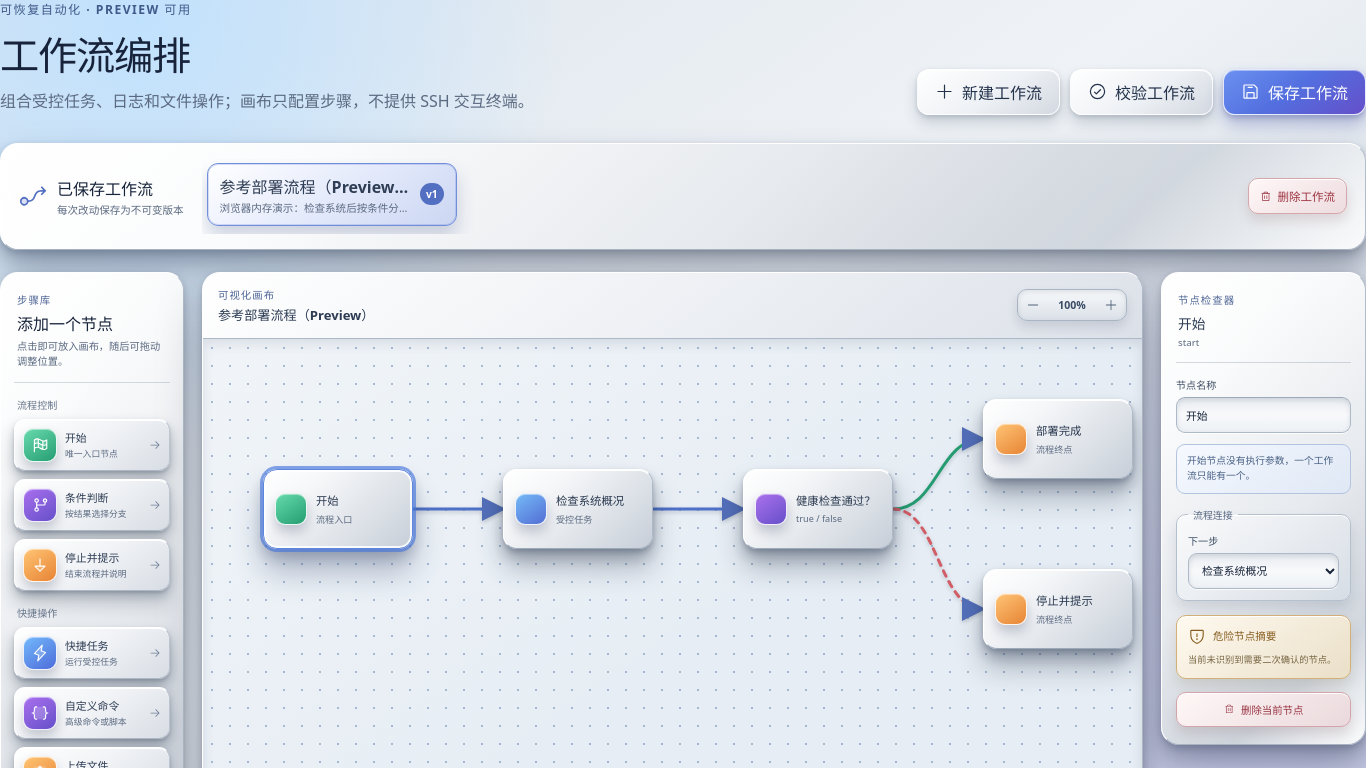
WorkflowInspector › edits task parameters and explicit next/true/false connections, then deletes a node
This screenshot has width=1366, height=768.
Expected: the button "参考部署流程（Preview） 浏览器内存演示：检查系统后按条件分支，不连接真实服务器。 v1" is shown, [207,163,457,226]
Click the button "检查系统概况 受控任务".
click(578, 509)  # box [503,469,653,549]
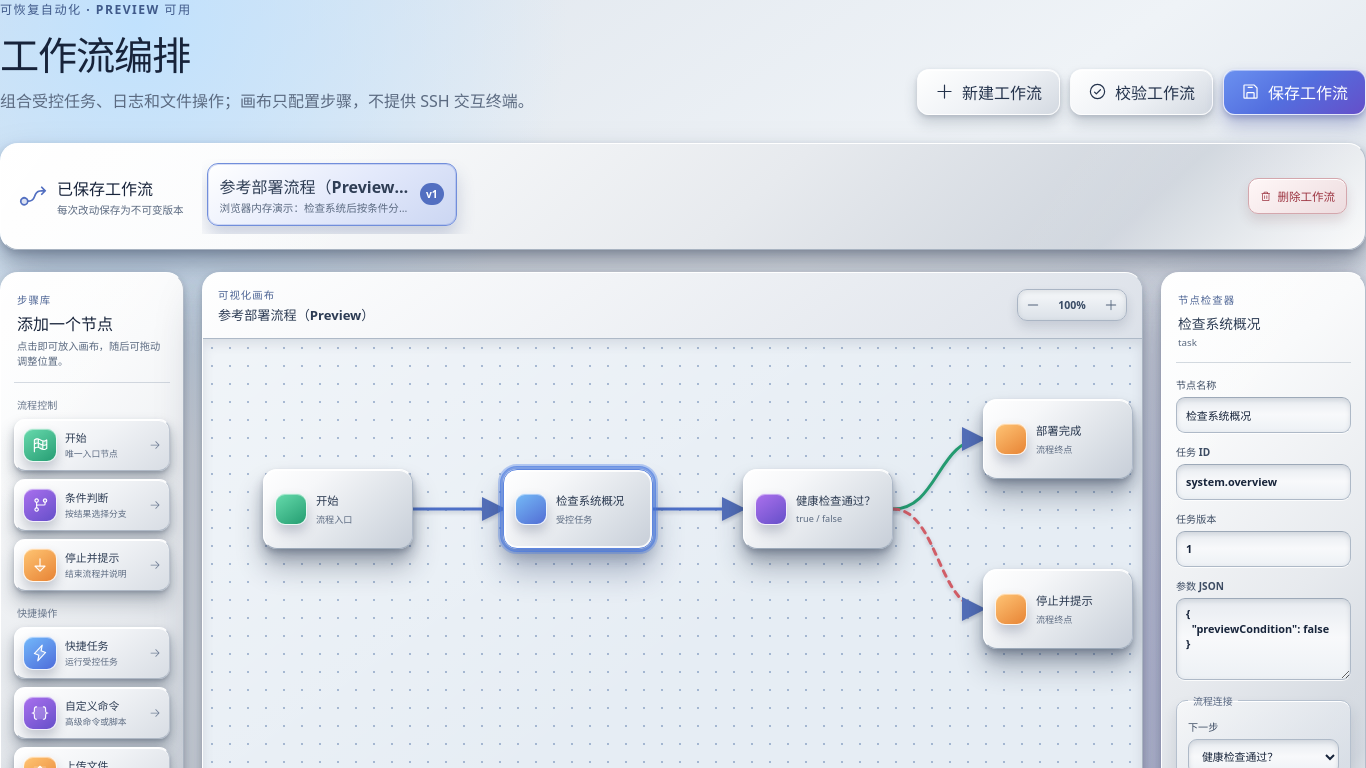
Expected: the field labelled "任务 ID" holds "system.overview"
Expected: the dropdown labelled "下一步" shows "健康检查通过？", [1188,739,1339,767]
Replace the text in the field labelled "任务 ID" with "service.restart" at coordinates (1264, 482), box [1176,464,1351,500]
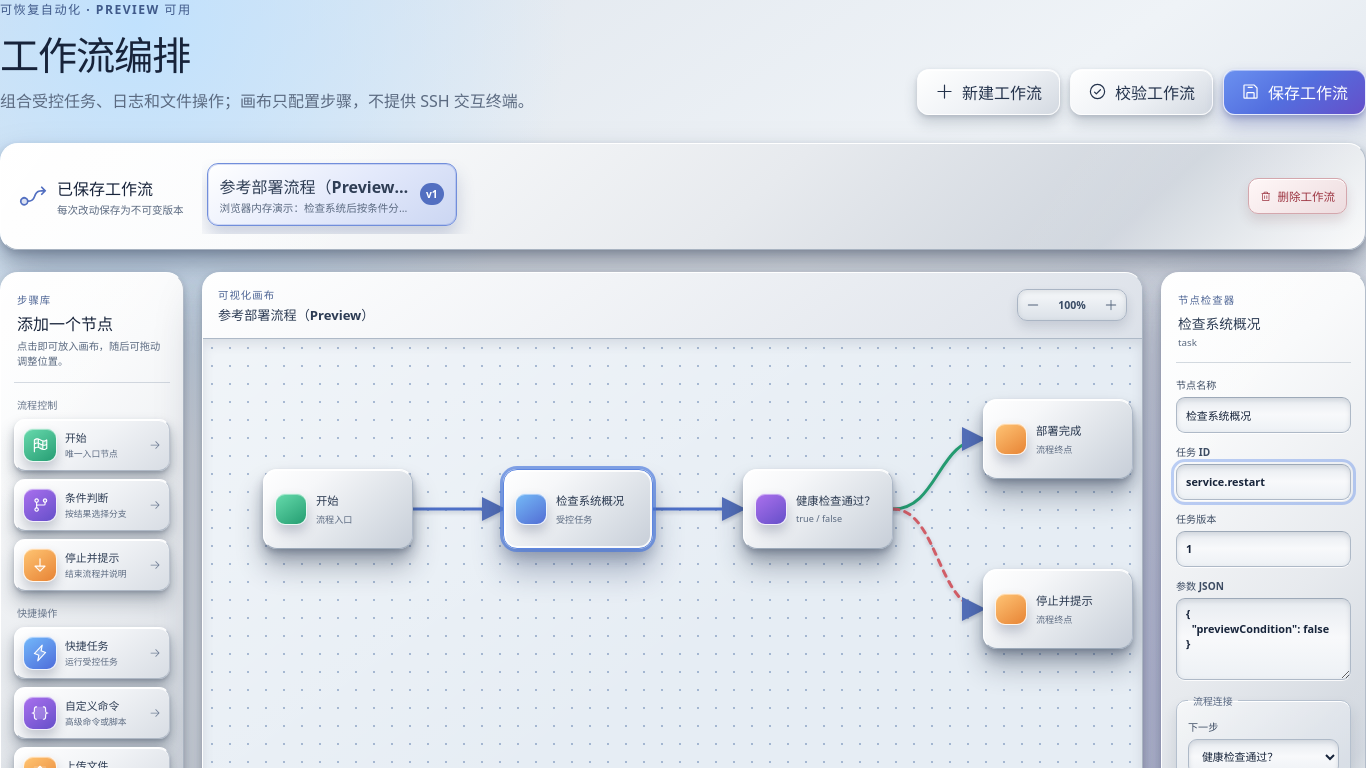
Click the button "健康检查通过？ true / false".
click(818, 509)  # box [743,469,893,549]
(page scrolled)
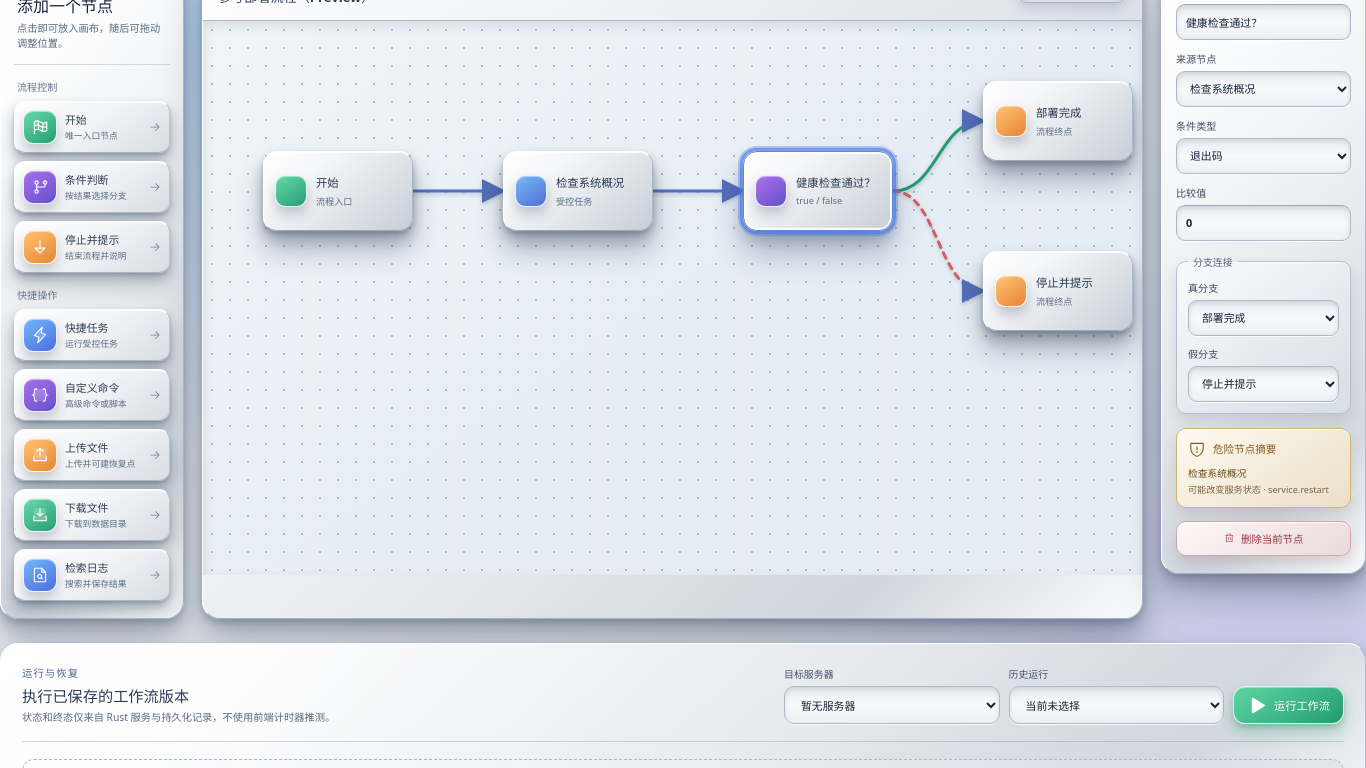
Expected: the dropdown labelled "真分支" shows "部署完成", [1188,300,1339,336]
Expected: the dropdown labelled "假分支" shows "停止并提示"
Select "无连接" in the dropdown labelled "假分支" at coordinates (1264, 384), box [1188,366,1339,402]
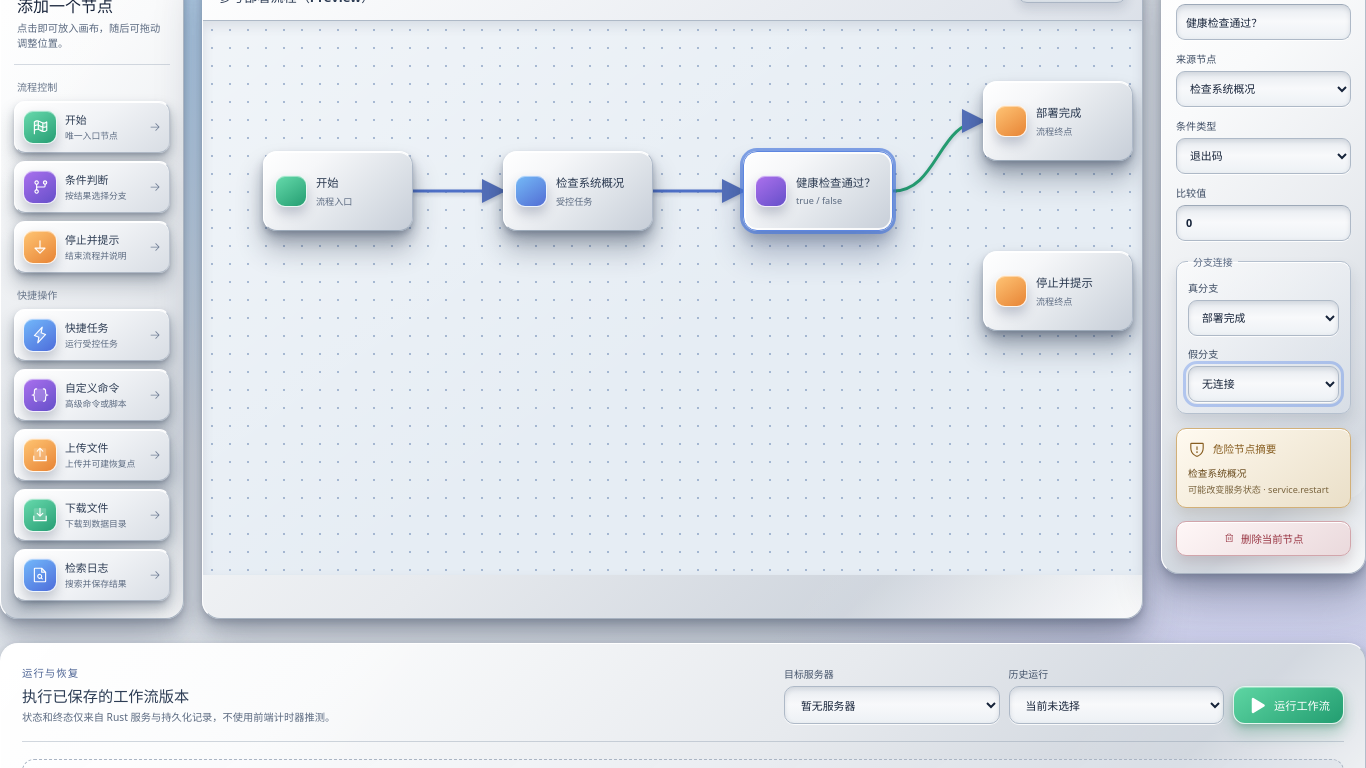
Click the button "删除当前节点".
click(1264, 538)  # box [1176,521,1351,556]
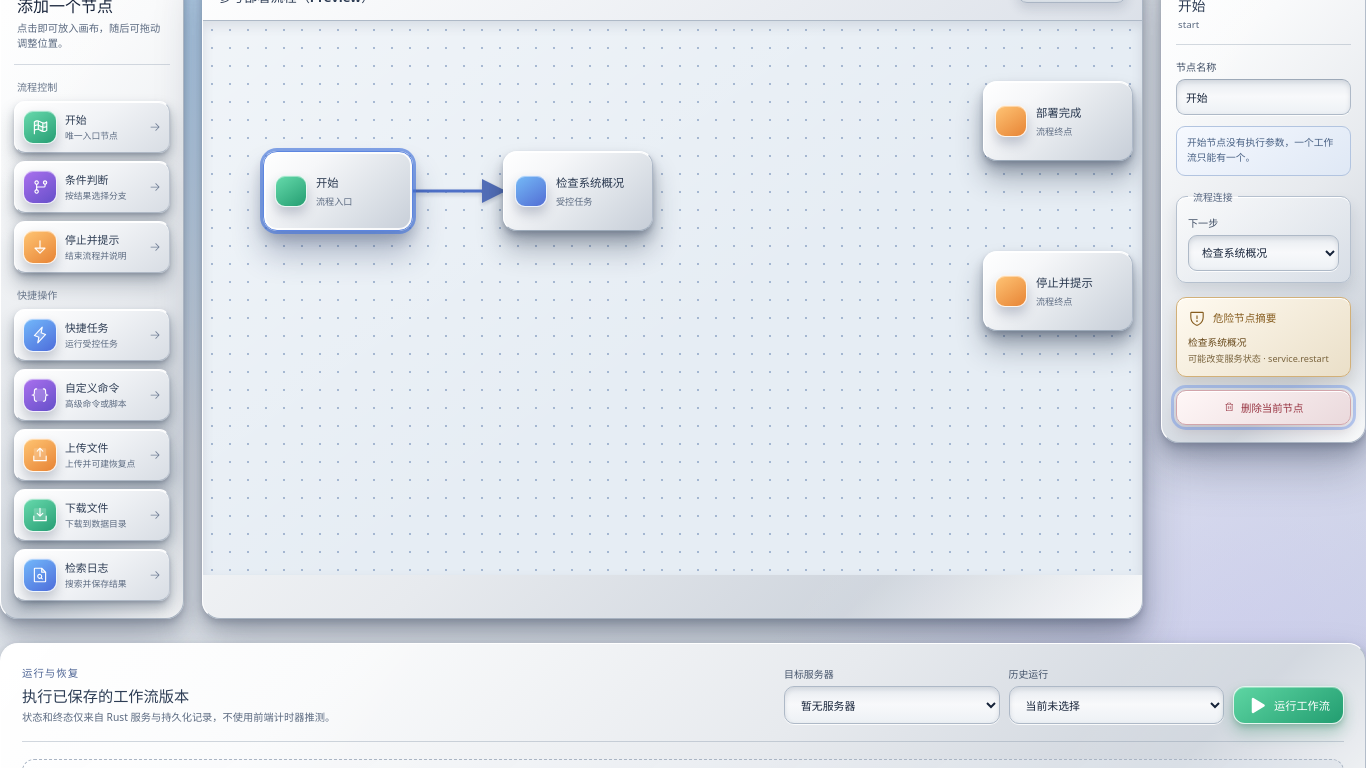
Expected: the button "健康检查通过" is gone
